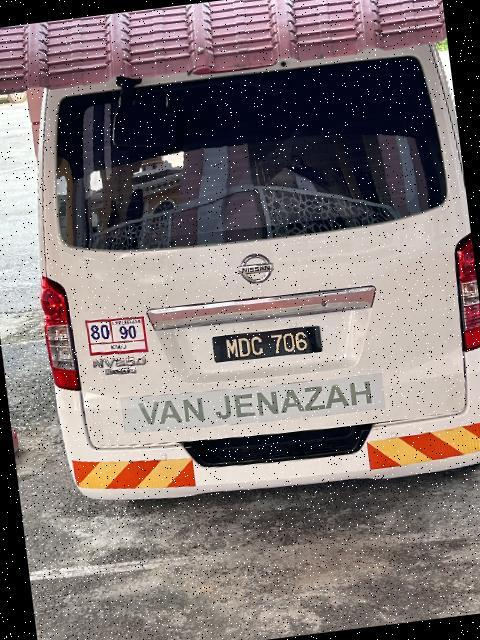License_Plate: (213, 324, 326, 370)
MDC706: (213, 324, 326, 370)
van: (4, 46, 480, 533)
